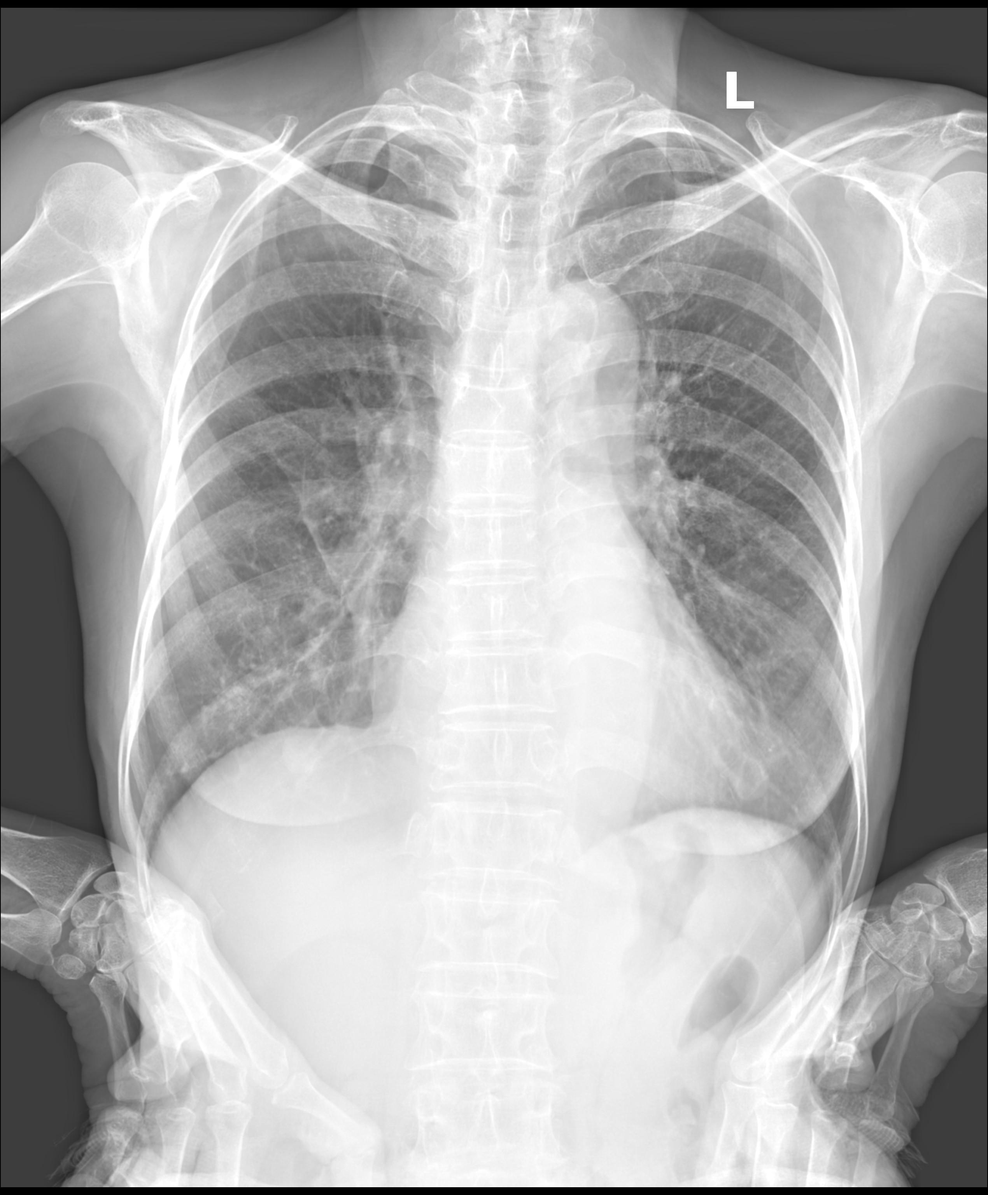Aortic enlargement: (505, 276, 639, 429)
Cardiomegaly: (370, 635, 770, 814)
Pulmonary fibrosis: (262, 441, 391, 658)
